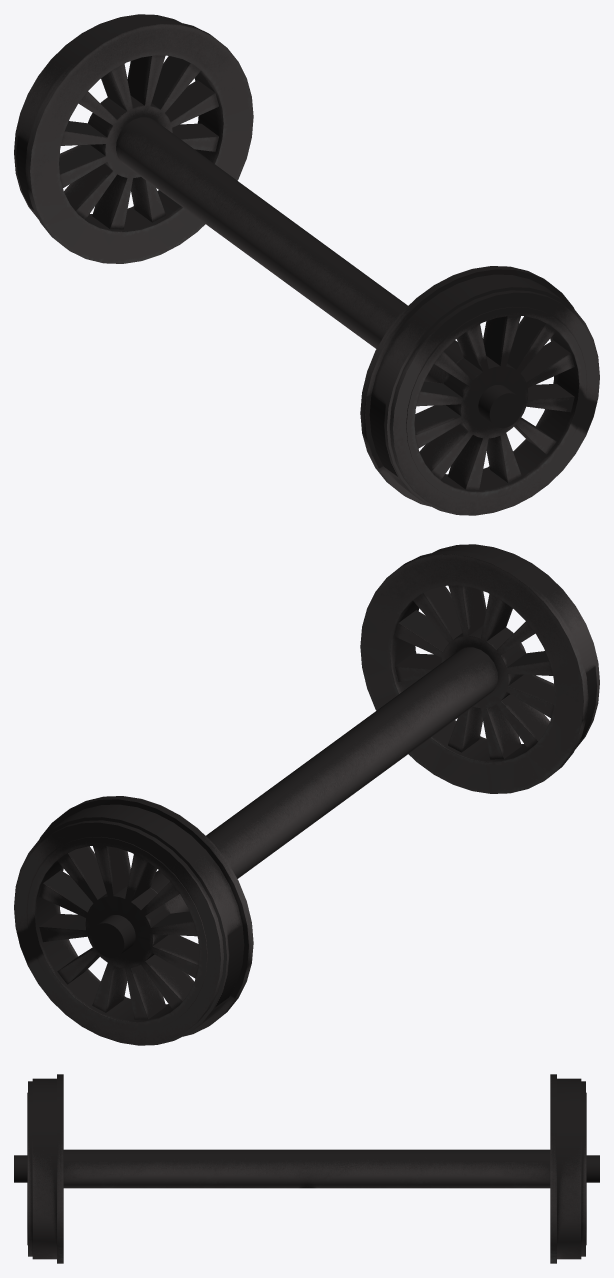
File: SM_Wheel.fbx
3 views of the same model, one above another, from view 1: azimuth 30°, elevation 25°; view 2: azimuth 150°, elevation 25°; view 3: azimuth 270°, elevation 25° (orthographic). The views are drawn at different scales.
Parts seen in each view (by area): view 1: SM_Wheel; view 2: SM_Wheel; view 3: SM_Wheel.
Boxes of the visible parts, bbox=[...] form: SM_Wheel: bbox=[14, 14, 599, 515]; SM_Wheel: bbox=[14, 544, 599, 1045]; SM_Wheel: bbox=[14, 1074, 599, 1263].
Bounding box in the file's own units: 97.51 × 301 × 97.51.
Materials: 1 (1 with a texture image).
